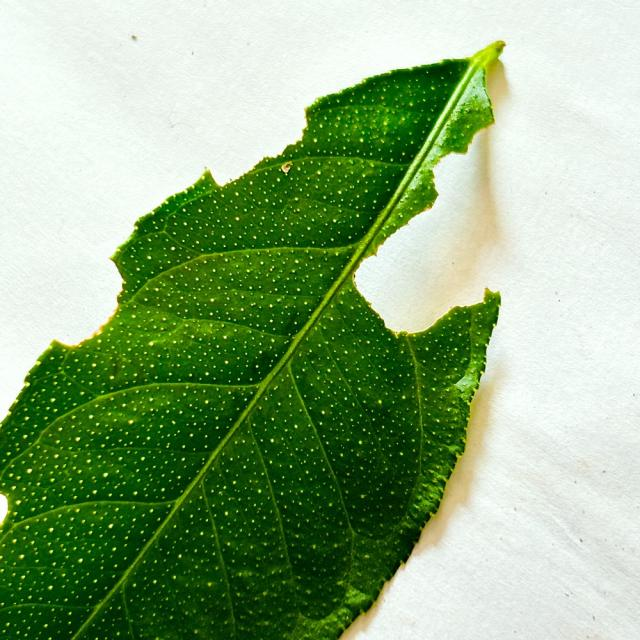Deficiency Leaf: (355, 101, 506, 331), (211, 108, 304, 188), (46, 253, 121, 344)
Lemon: (0, 55, 499, 639)
